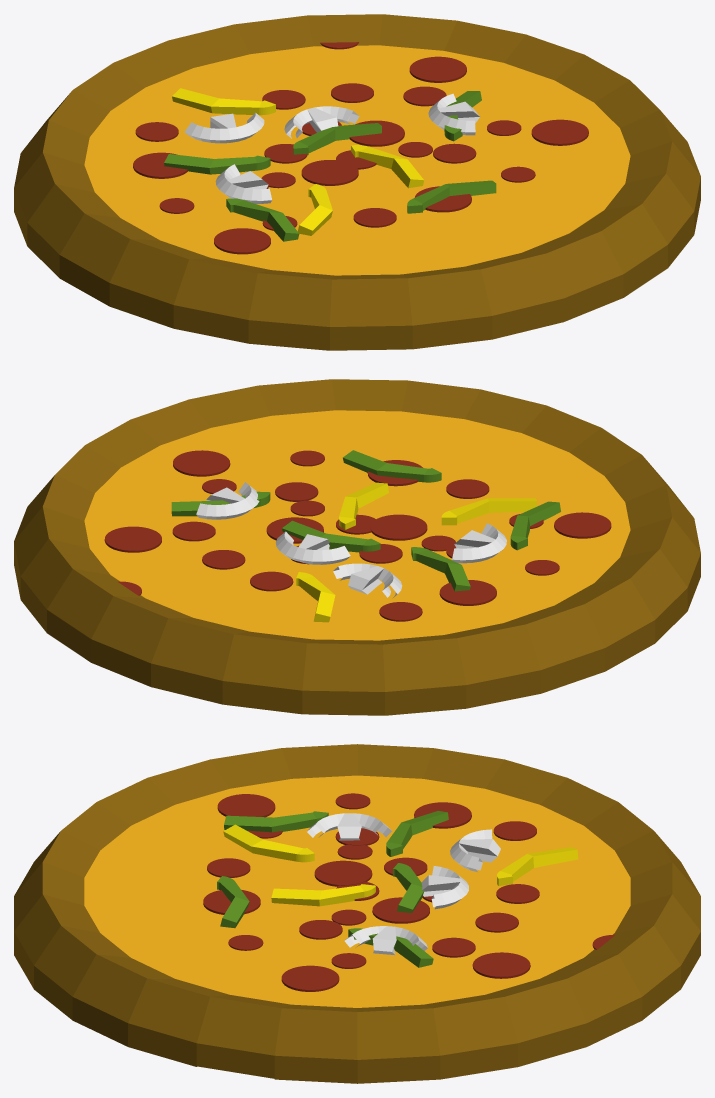
File: Pizza.fbx
3 renders of one model, top to bottom at view 1: azimuth 30°, elevation 25°; view 2: azimuth 150°, elevation 25°; view 3: azimuth 270°, elevation 25°, orthographic.
Parts seen in each view (by area): view 1: Torus, Cylinder, Cube.005, Torus.004, Cube.003, Torus.003, Torus.001, Torus.002, Cube.007, Cube.004, Cube.002, Cube (+16 smaller); view 2: Torus, Cylinder, Torus.001, Torus.004, Torus.003, Cube.007, Torus.002, Cube.006, Cylinder.015, Cylinder.006, Cylinder.013, Cylinder.022 (+16 smaller); view 3: Torus, Cylinder, Cube, Cube.006, Torus.004, Torus.003, Cube.002, Torus.001, Cube.005, Torus.002, Cylinder.006, Cylinder.022 (+15 smaller).
Boxes of the visible parts, x1=… form: Torus: x1=14, y1=14, x2=700, y2=350; Cylinder: x1=84, y1=45, x2=630, y2=275; Cube.005: x1=172, y1=88, x2=275, y2=115; Torus.004: x1=184, y1=112, x2=264, y2=143; Cube.003: x1=164, y1=154, x2=270, y2=174; Torus.003: x1=215, y1=164, x2=271, y2=203; Torus.001: x1=284, y1=106, x2=359, y2=138; Torus.002: x1=428, y1=93, x2=479, y2=135; Cube.007: x1=407, y1=180, x2=496, y2=213; Cube.004: x1=293, y1=123, x2=381, y2=155; Cube.002: x1=226, y1=198, x2=299, y2=241; Cube: x1=351, y1=145, x2=424, y2=188; Torus: x1=14, y1=379, x2=700, y2=715; Cylinder: x1=84, y1=410, x2=630, y2=640; Torus.001: x1=275, y1=531, x2=350, y2=564; Torus.004: x1=333, y1=563, x2=402, y2=598; Torus.003: x1=452, y1=523, x2=506, y2=563; Cube.007: x1=343, y1=450, x2=441, y2=482; Torus.002: x1=196, y1=482, x2=259, y2=519; Cube.006: x1=441, y1=498, x2=536, y2=525; Cylinder.015: x1=554, y1=512, x2=611, y2=538; Cylinder.006: x1=173, y1=450, x2=230, y2=476; Cylinder.013: x1=370, y1=514, x2=427, y2=540; Cylinder.022: x1=104, y1=526, x2=161, y2=552; Torus: x1=14, y1=744, x2=700, y2=1083; Cylinder: x1=84, y1=775, x2=630, y2=1007; Cube: x1=271, y1=884, x2=375, y2=906; Cube.006: x1=223, y1=824, x2=314, y2=862; Torus.004: x1=450, y1=829, x2=500, y2=872; Torus.003: x1=307, y1=813, x2=391, y2=840; Cube.002: x1=224, y1=811, x2=328, y2=832; Torus.001: x1=421, y1=866, x2=468, y2=909; Cube.005: x1=497, y1=847, x2=578, y2=885; Torus.002: x1=344, y1=926, x2=427, y2=955; Cylinder.006: x1=281, y1=965, x2=339, y2=991; Cylinder.022: x1=472, y1=952, x2=530, y2=978.
Bounding box in the file's own units: 250 × 23.73 × 248.
